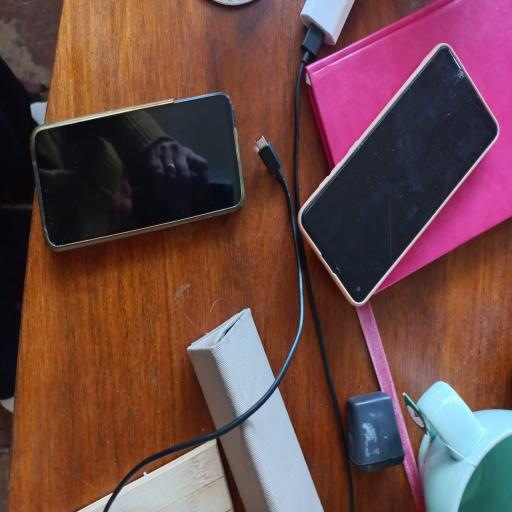phone: (299, 44, 498, 305), (32, 93, 244, 249)
